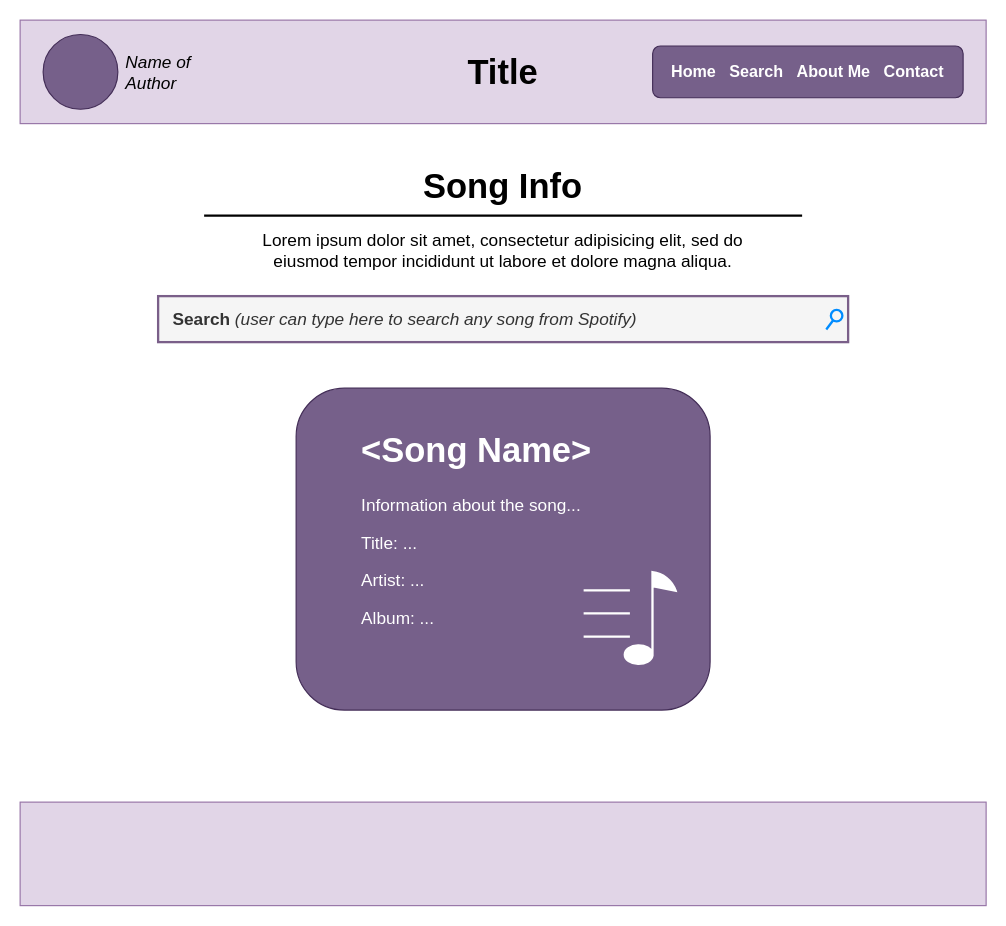
The diagram is 1006 pixels wide and 926 high, and some of its shapes have lost their labels. Here are the shapes that lost their labels. From the top down, the box of each, then its label:
(42, 33, 118, 109): logo
(19, 801, 986, 906): footer
